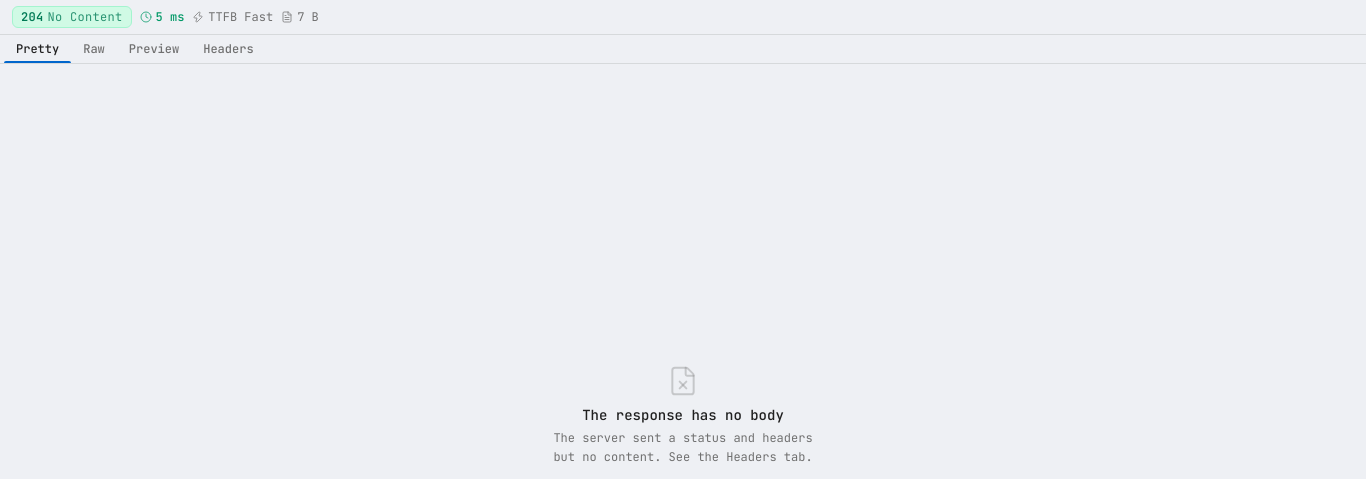
Test: ResponseBodyViewer empty body › says there is nothing to preview on the Preview tab
The width and height of the screenshot is (1366, 479).
Click the tab "Preview" at [154, 49], box [117,35,191,63]
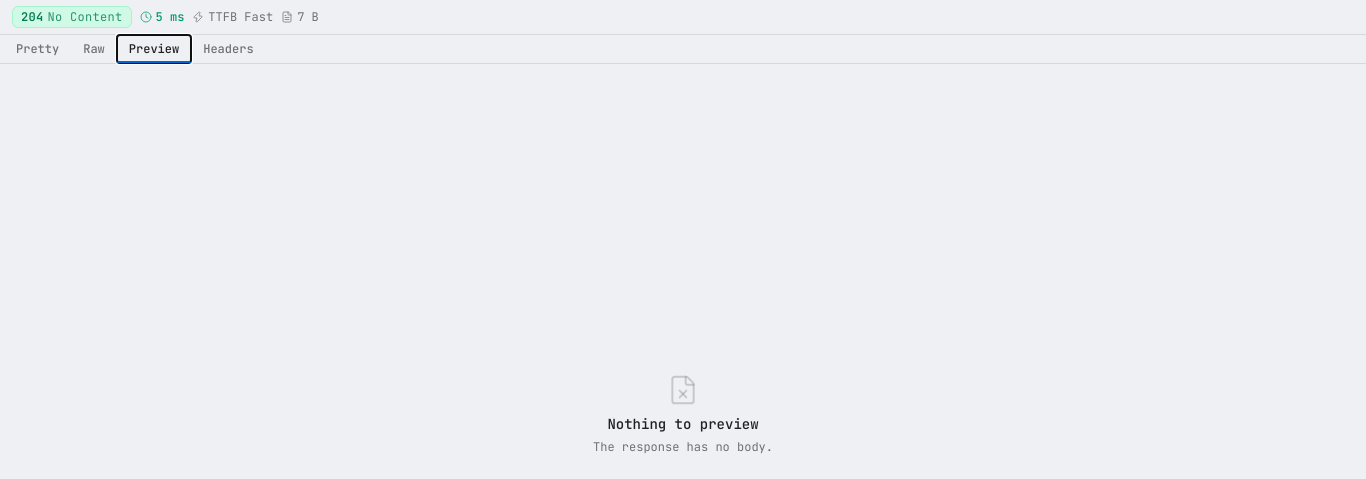
Expected: the text "Nothing to preview" is shown, [607,415,759,433]
